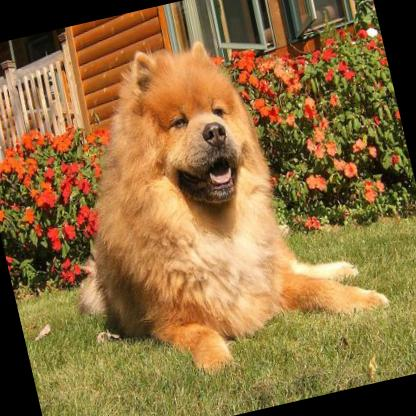chow: (27, 8, 396, 398)
